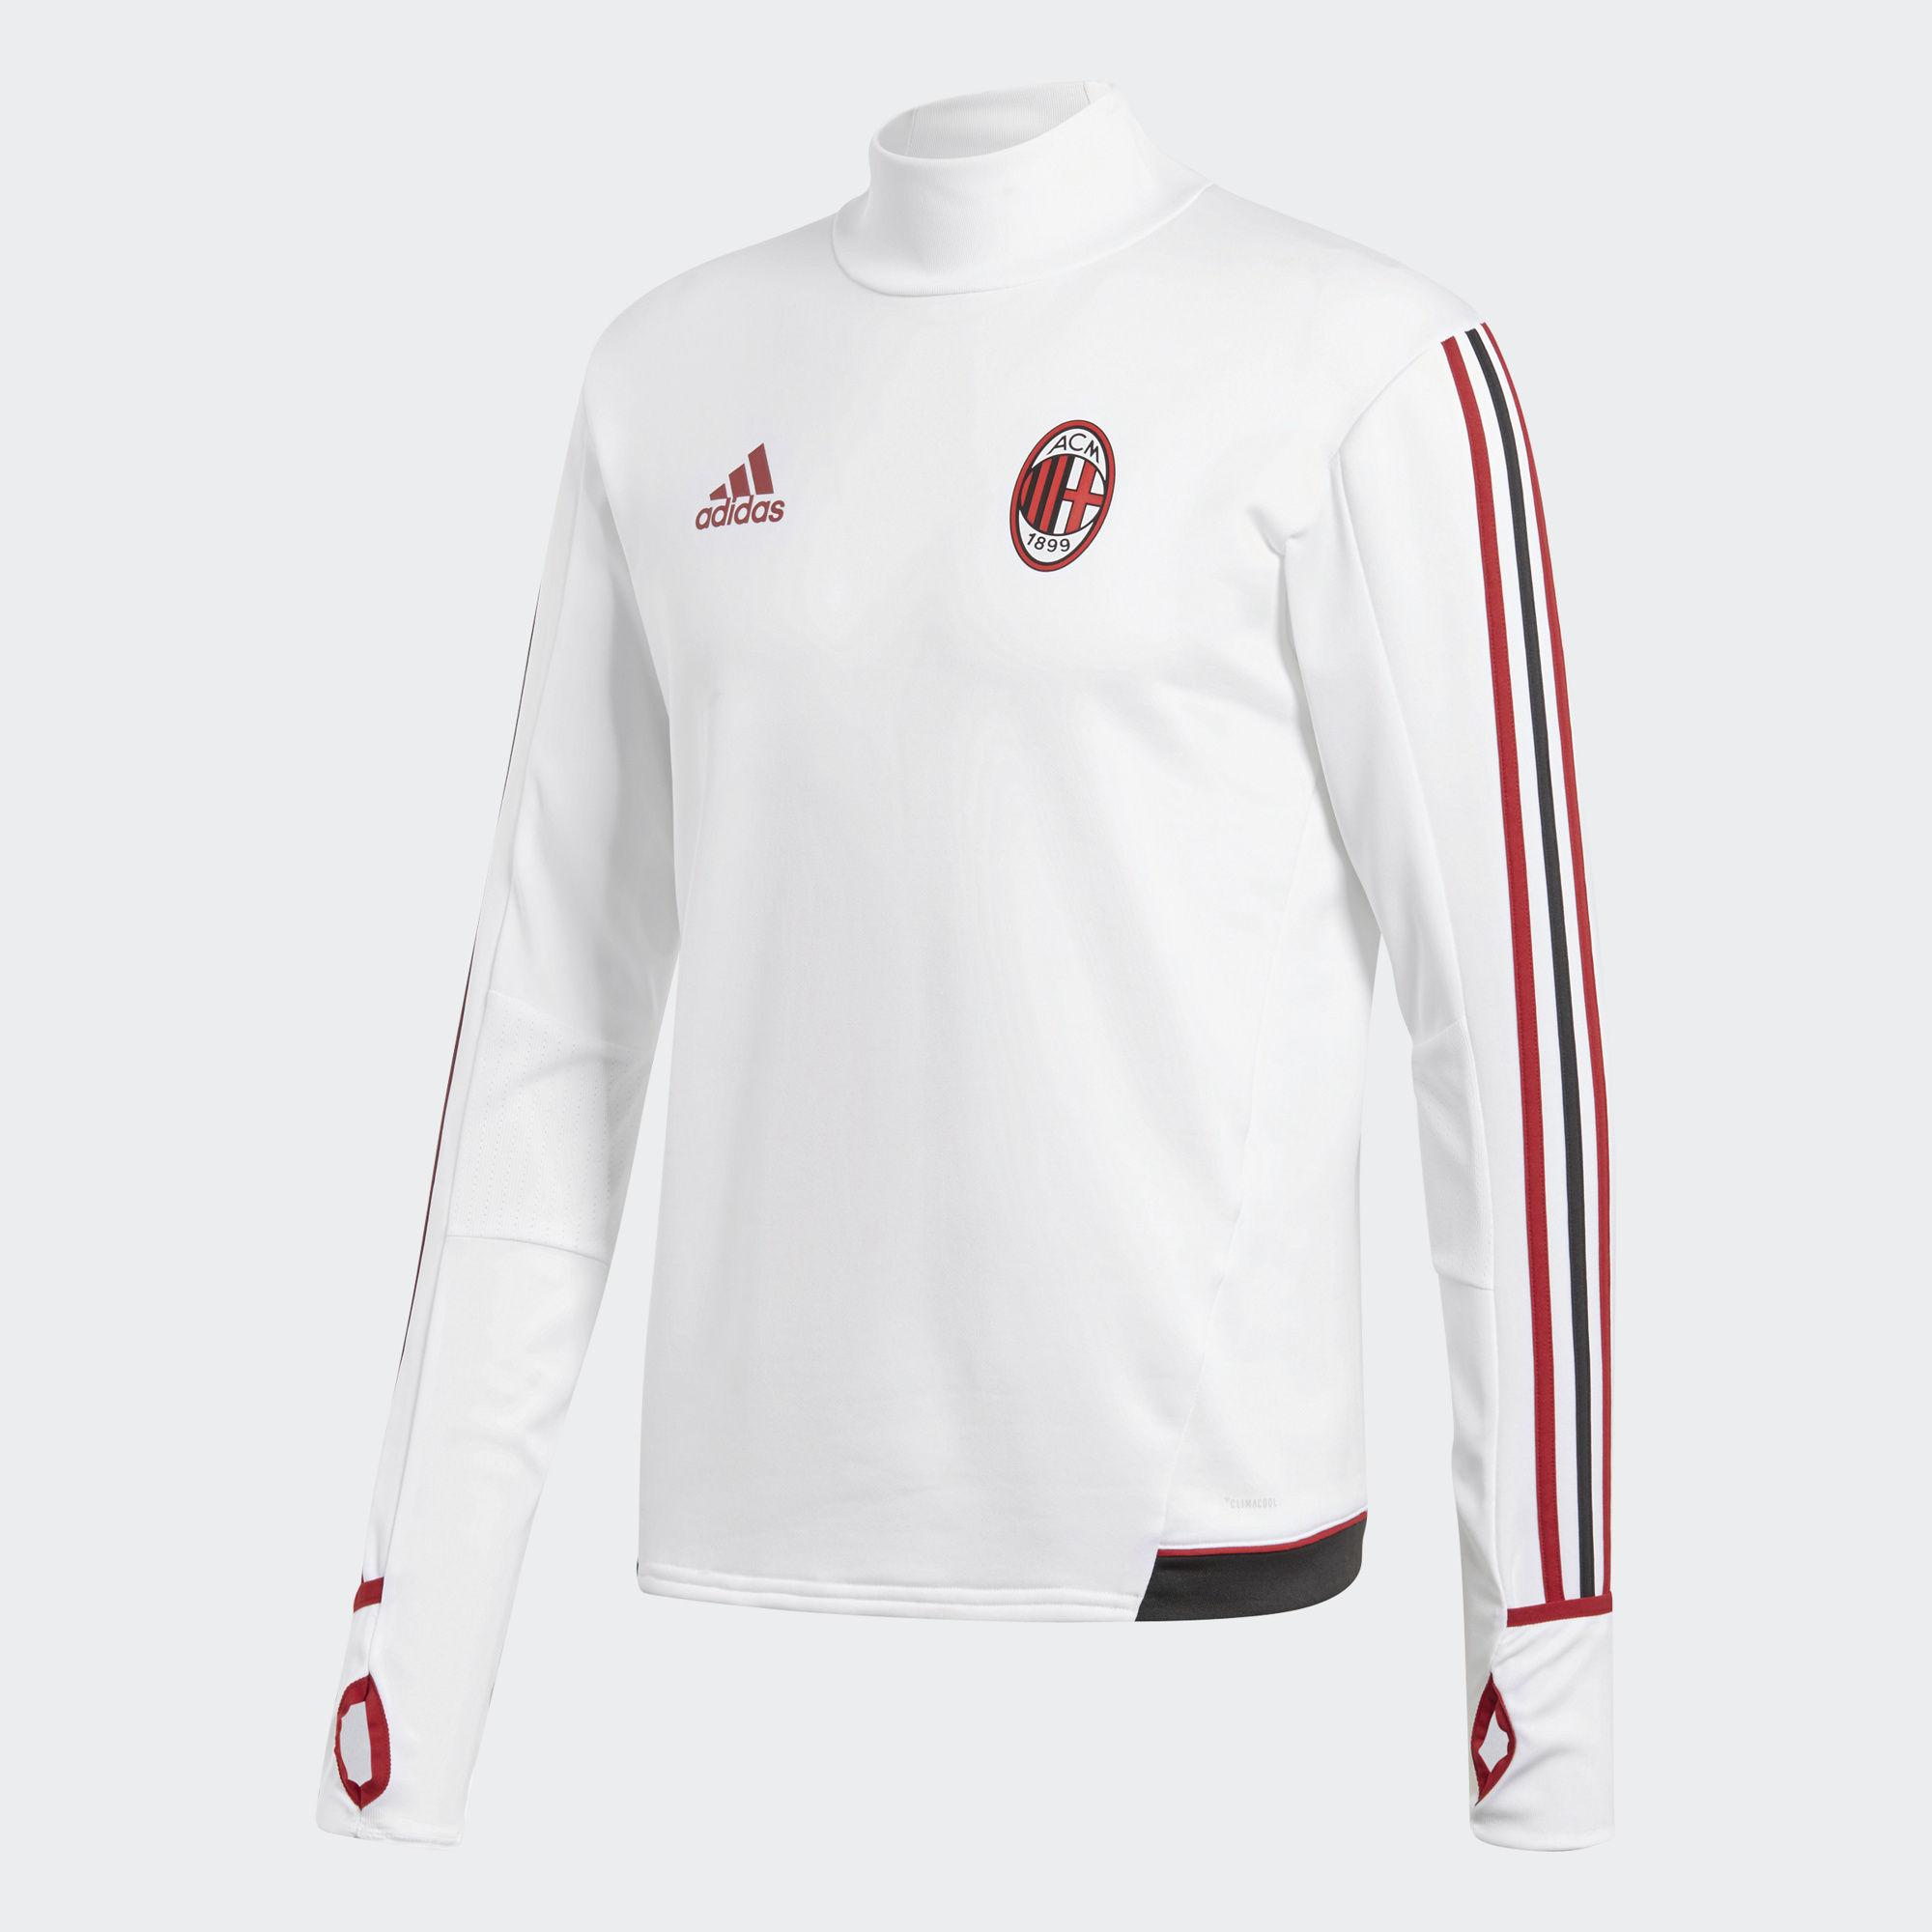teeshirt: (306, 87, 1711, 1882)
